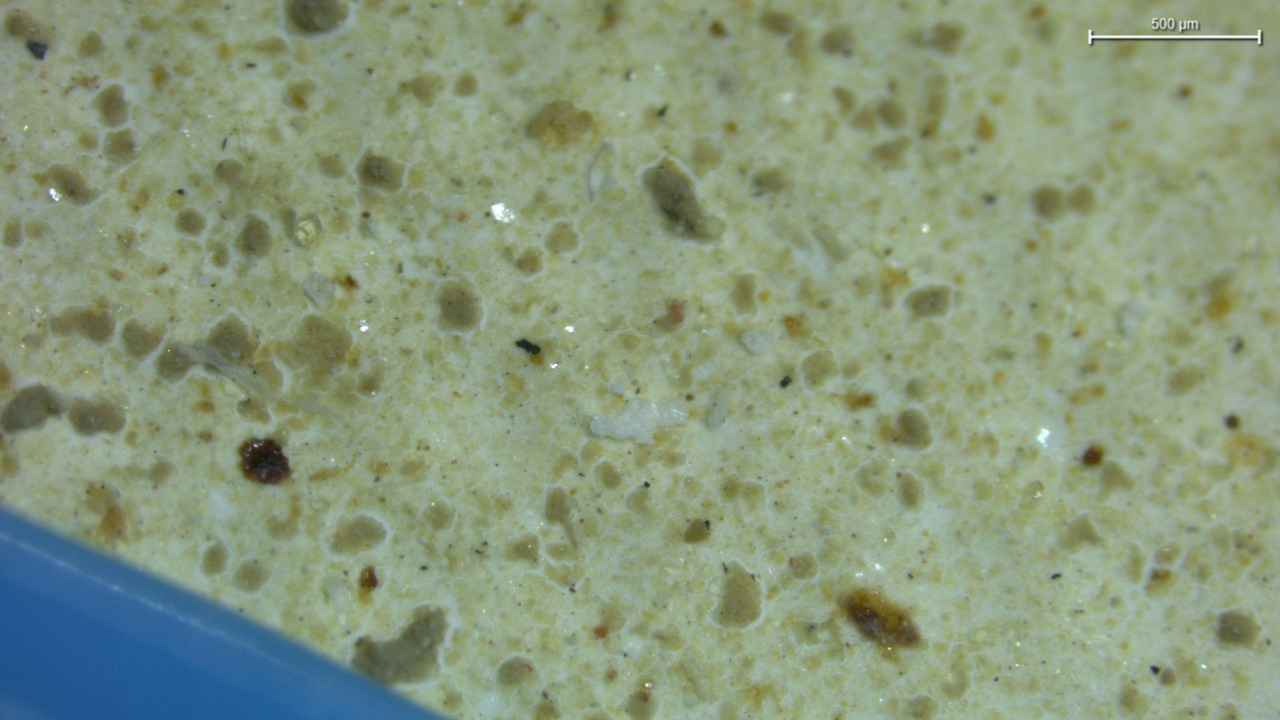microplastic_fragment: (589, 399, 688, 443), (740, 329, 773, 354)
